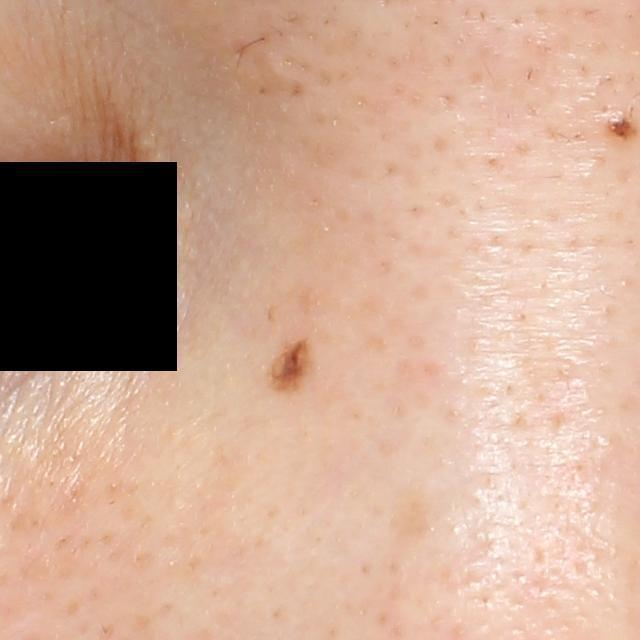nevus: (266, 335, 317, 394)
